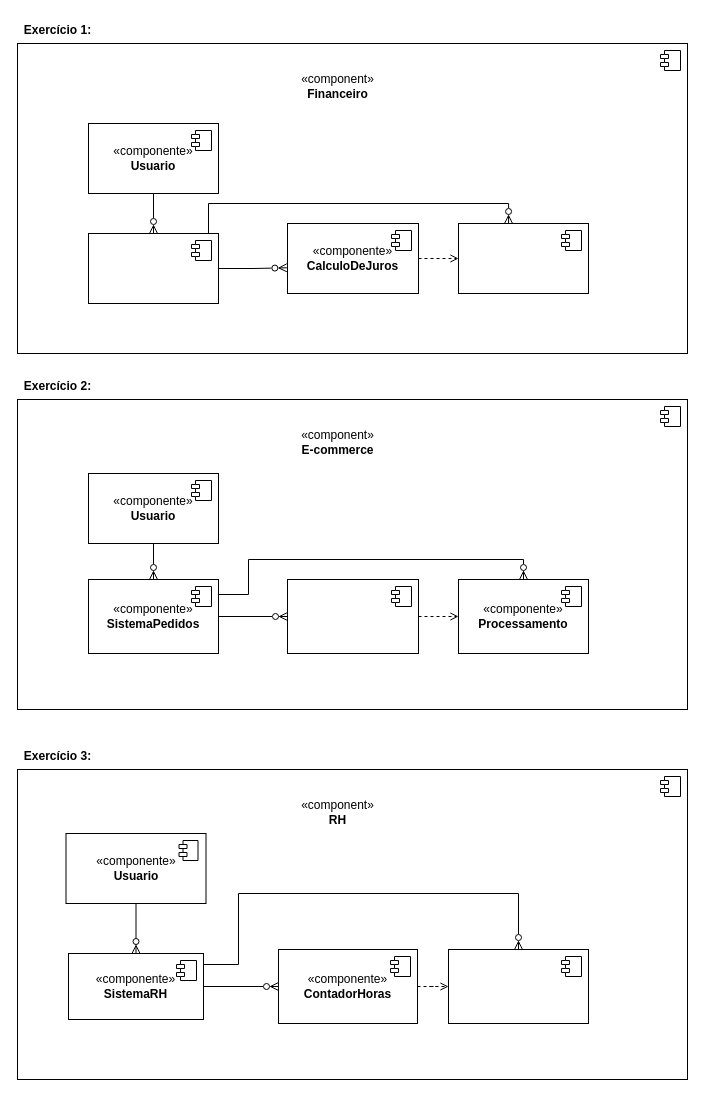
Some shapes in this 705 by 1105 pixel diagram are drawn without their labels. Each missing label, with the centre of its shape:
"«componente» CalculoPagamento" goes at (x=518, y=986).
"«componente» Emprestimo" goes at (x=153, y=268).
"«componente» PlanoAmotizacao" goes at (x=523, y=258).
"«componente» ValidadorEstoque" goes at (x=352, y=616).
